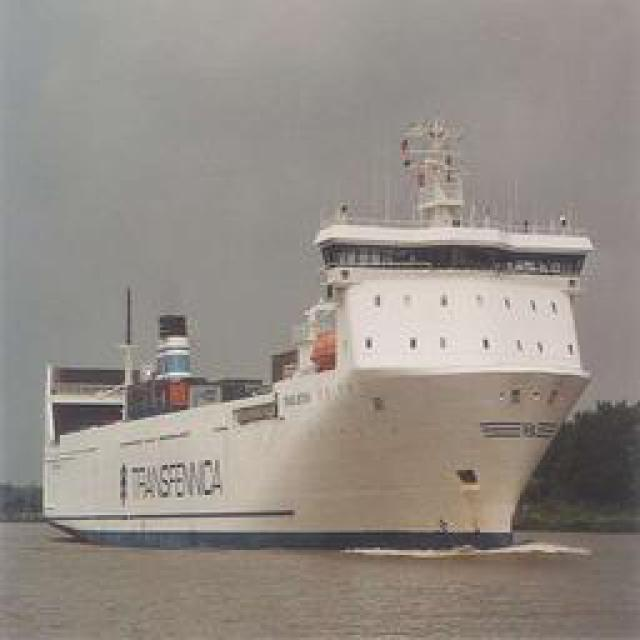Ship: (33, 252, 598, 550)
